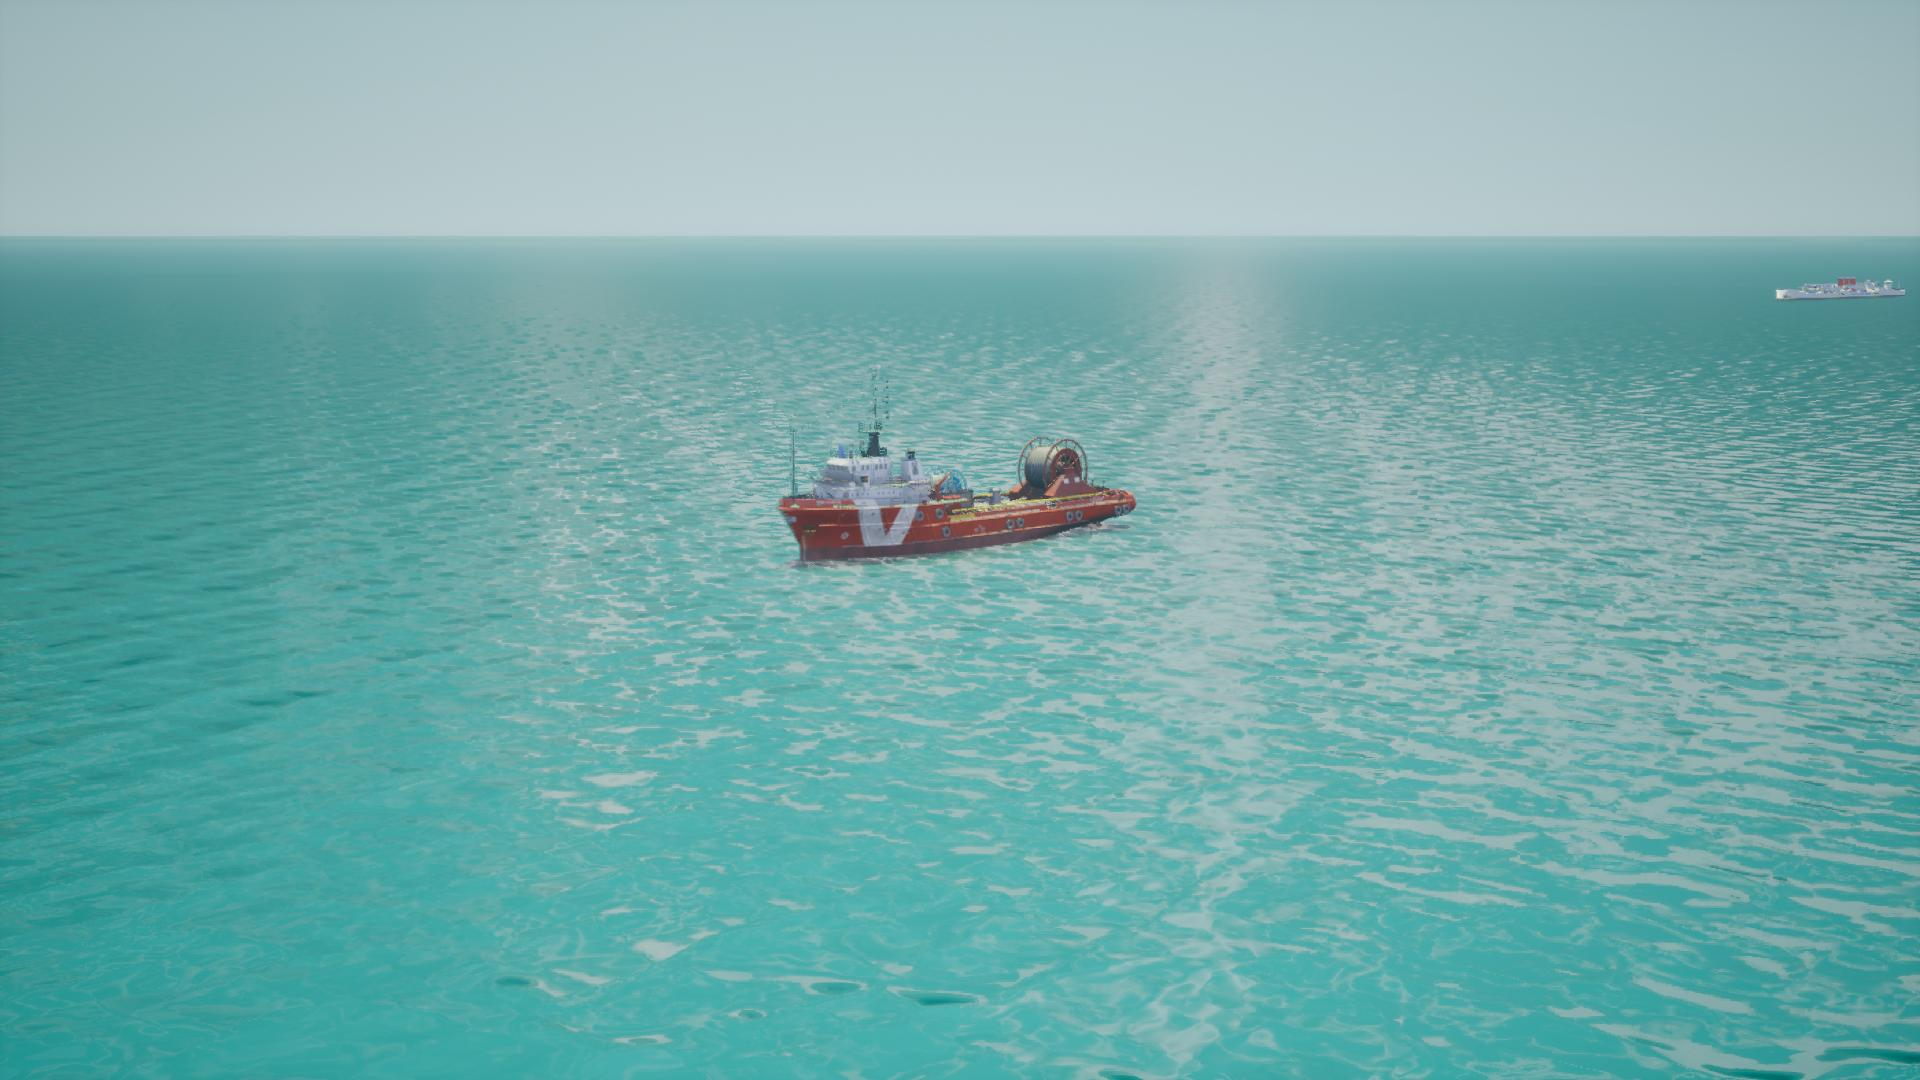Tug Boat: (781, 421, 1131, 567)
